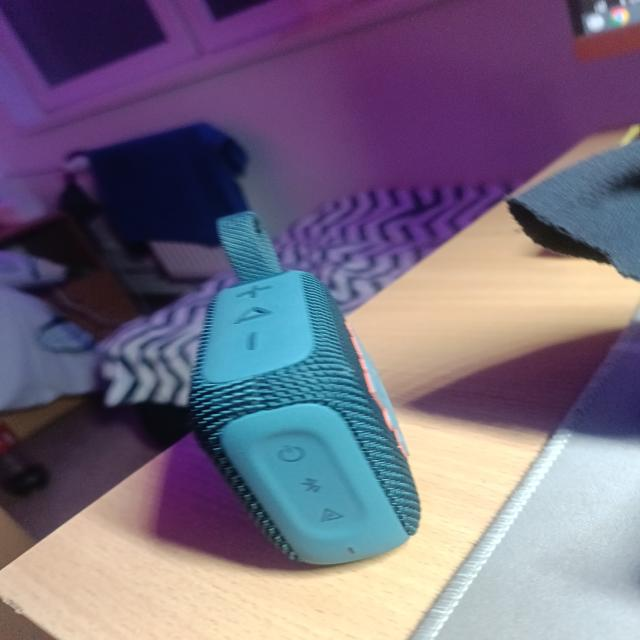column JBL: (189, 212, 420, 564)
